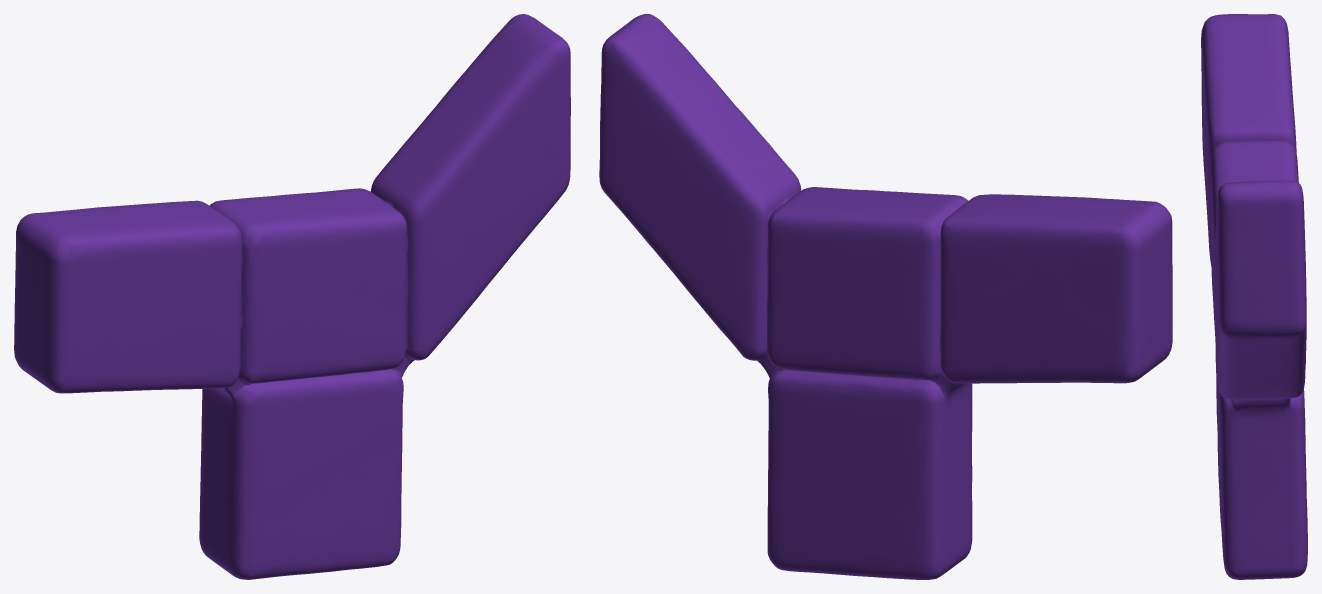
Rendered from terraform.glb.
3 renders of one model, left to right at view 1: azimuth 30°, elevation 25°; view 2: azimuth 150°, elevation 25°; view 3: azimuth 270°, elevation 25°, orthographic. The views are drawn at different scales.
Bounding box in the file's own units: 0.9998 × 0.8789 × 0.1792.
